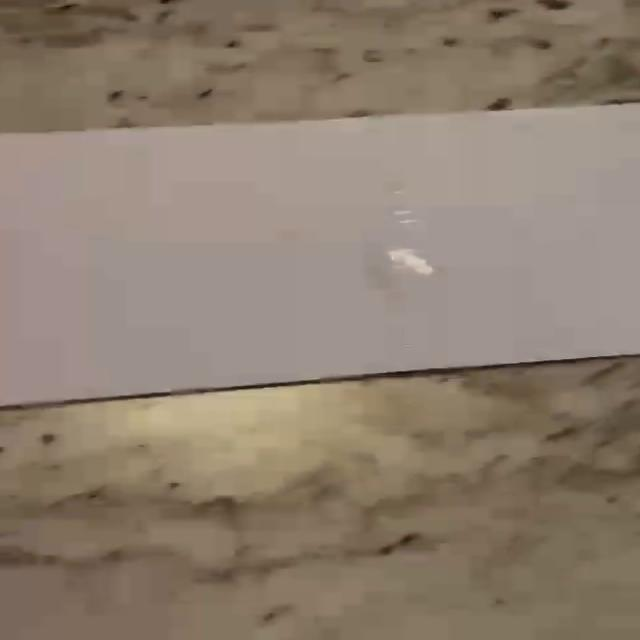road: (1, 104, 639, 405)
